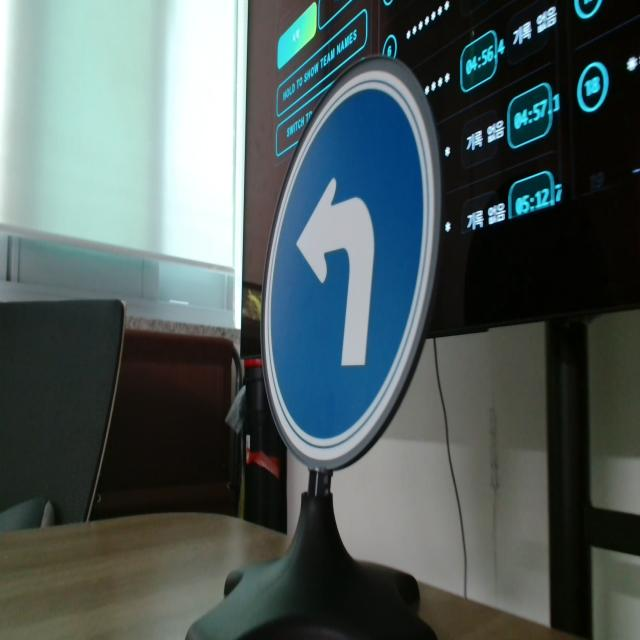left_direction: (264, 73, 475, 496)
